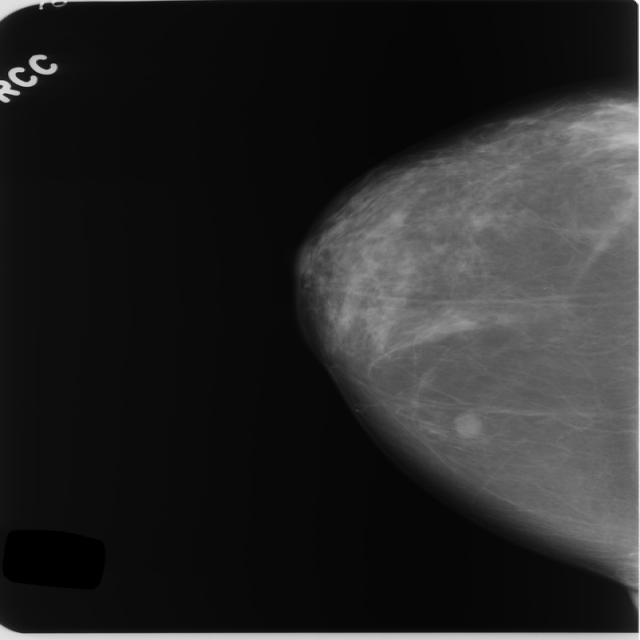tumour: (451, 408, 482, 437)
